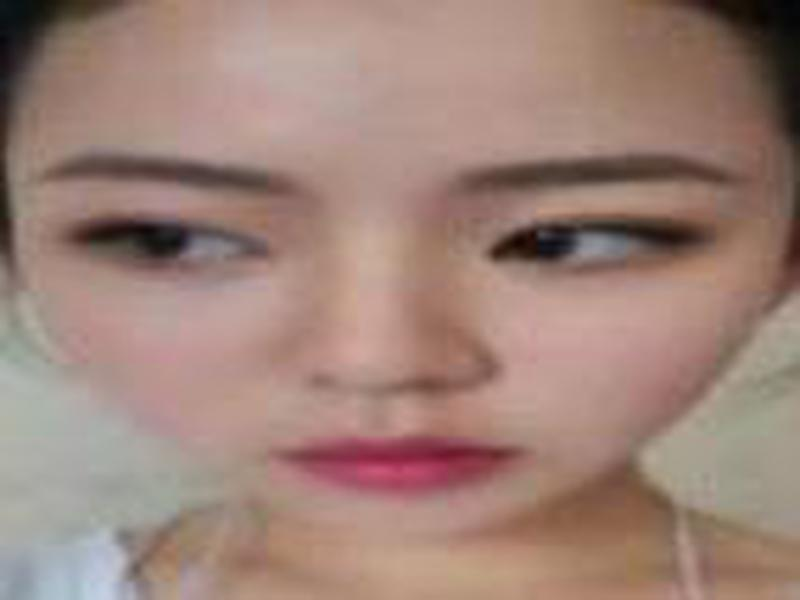without_mask: (16, 14, 791, 540)
